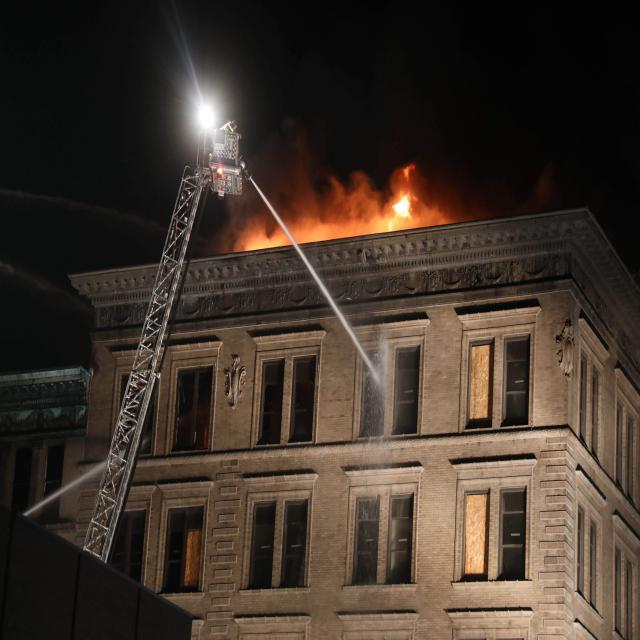Fire: (229, 172, 472, 249)
